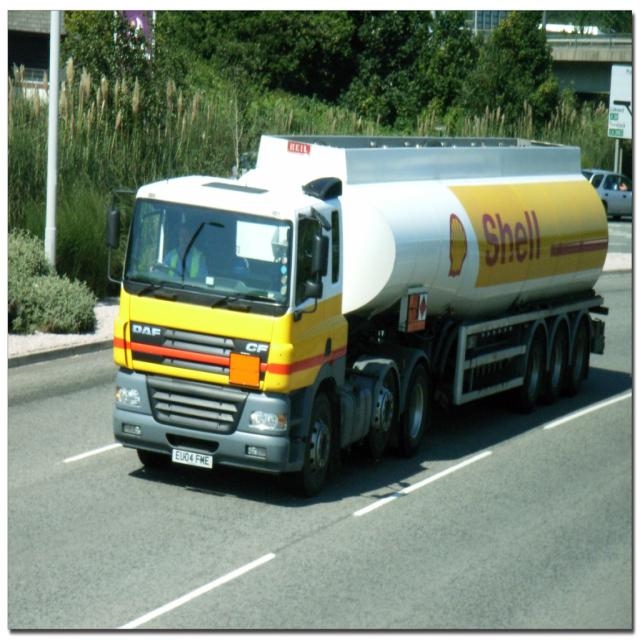shell: (448, 214, 470, 280)
